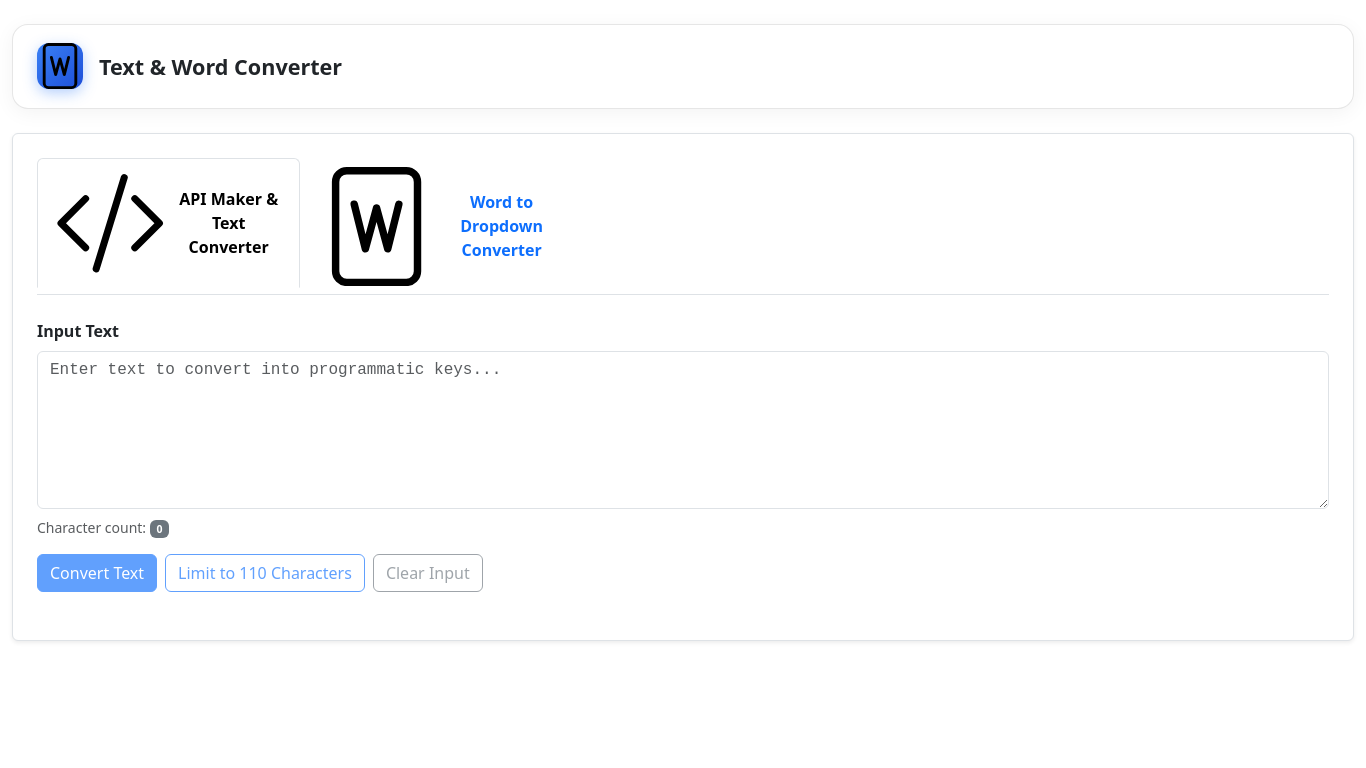
Test: WordConverter (Text & Word Tools) › converts text to API key in API Key Converter tab
Type "First Name" into the text box with placeholder "Enter text to convert into programmatic keys..." at (683, 430), box [37,351,1329,509]
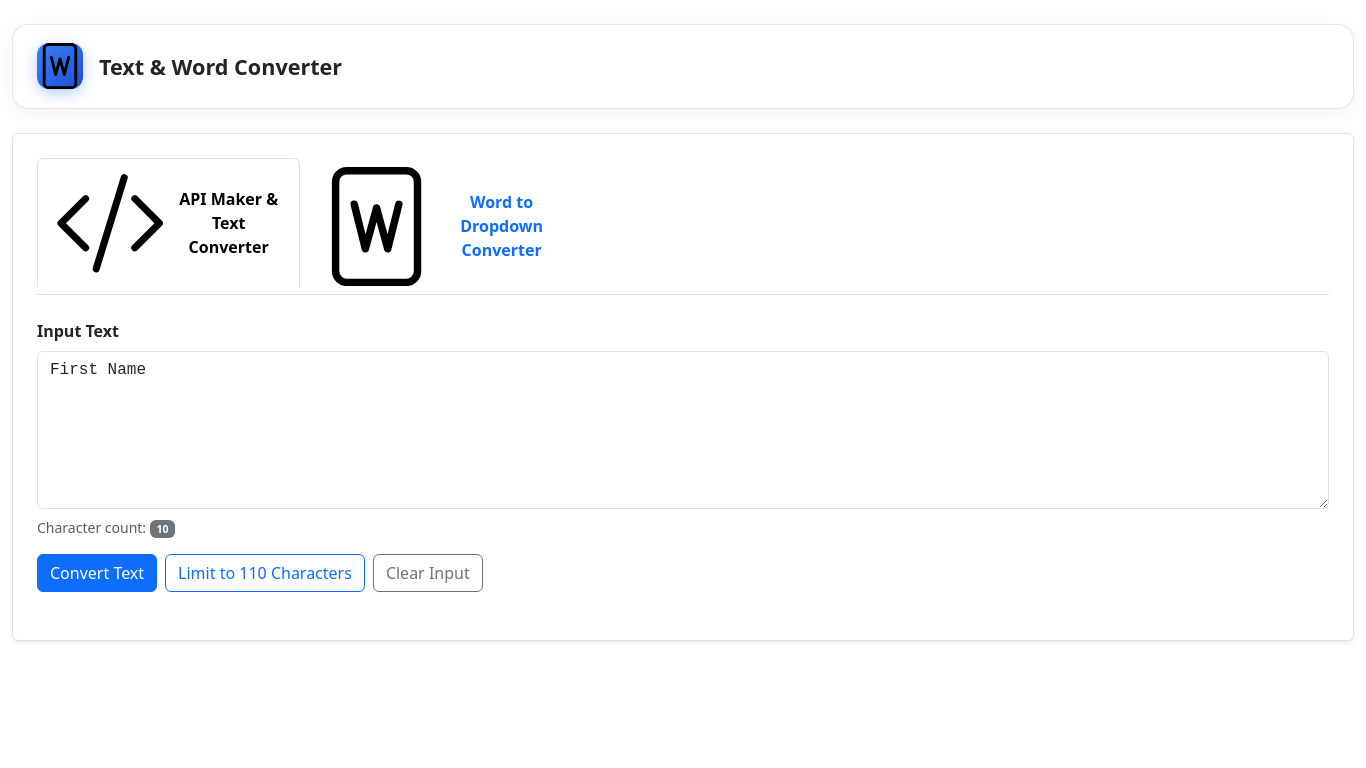
Click the button "Convert Text" at (97, 573), box [37,554,157,592]
(page scrolled)
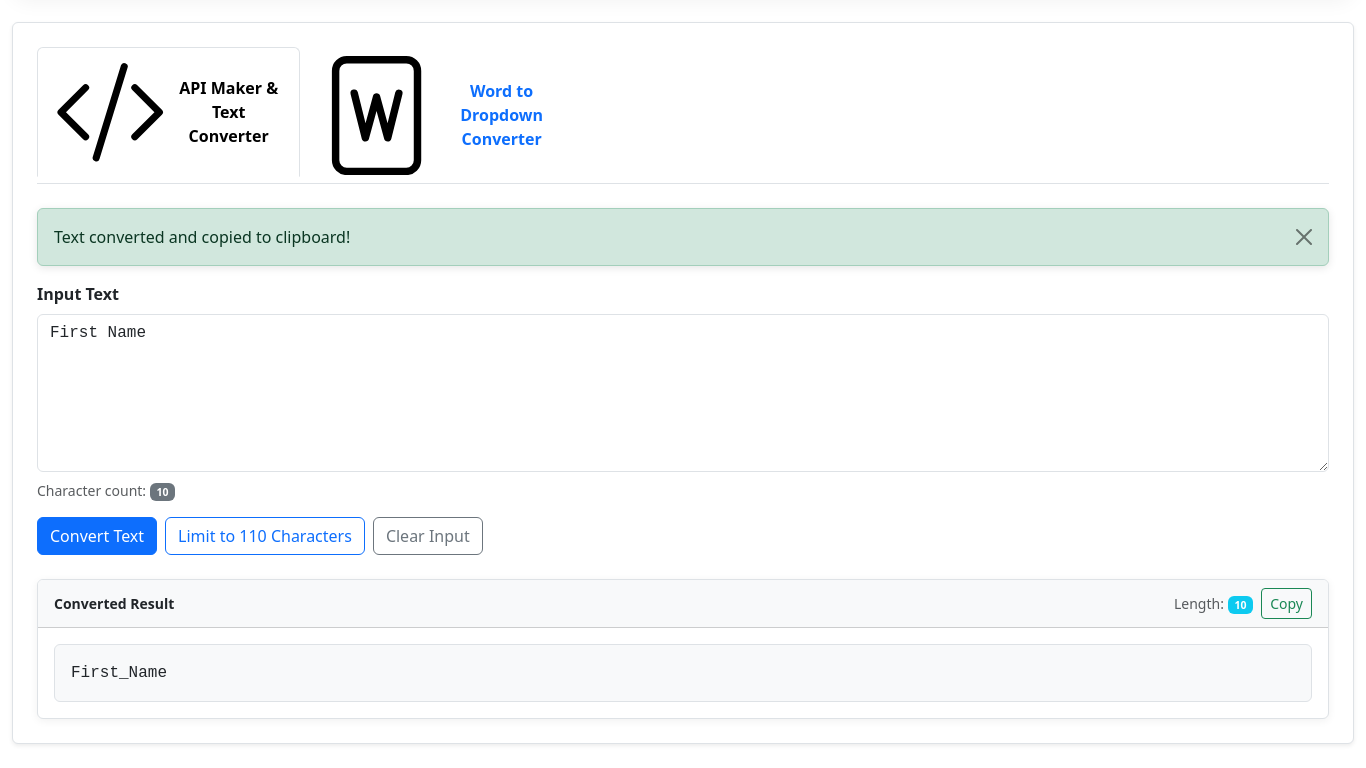
Check: the text "Converted Result" is shown, box [54,593,174,614]
Check: the text "First_Name" is shown, box [54,644,1312,702]
